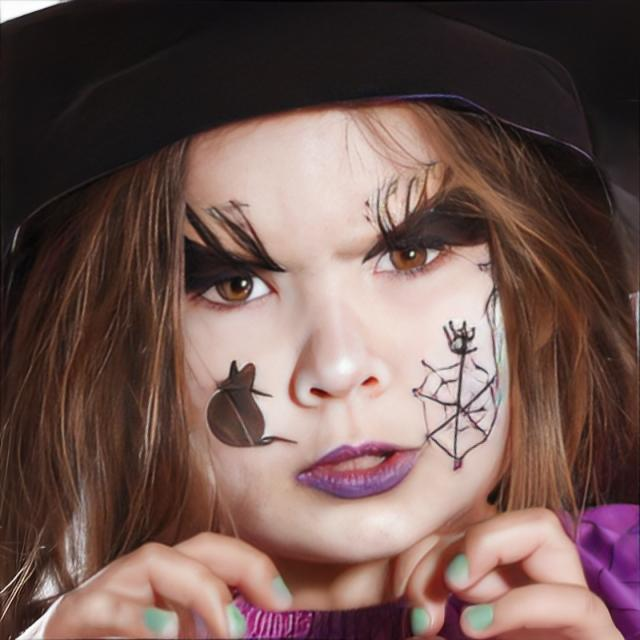anger: (162, 98, 510, 562)
